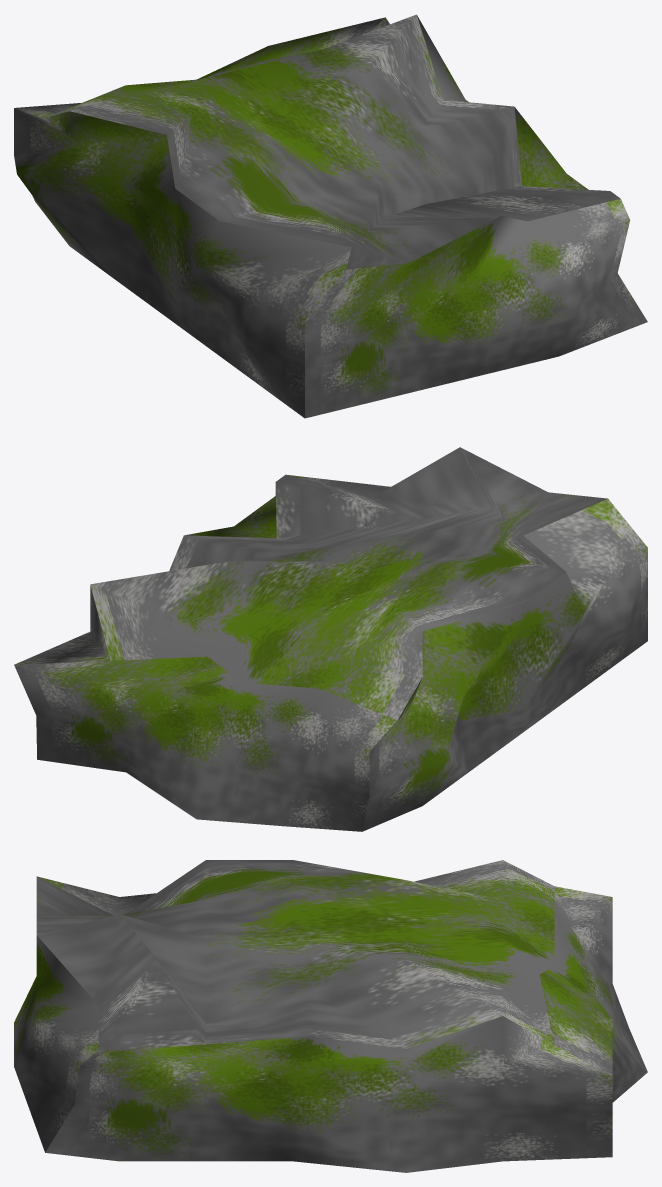
File: rock_02.FBX
3 views of the same model, one above another, from view 1: azimuth 30°, elevation 25°; view 2: azimuth 150°, elevation 25°; view 3: azimuth 270°, elevation 25° (orthographic). The views are drawn at different scales.
Parts seen in each view (by area): view 1: Box002; view 2: Box002; view 3: Box002.
Part boxes in pixels (x1,y1,x2,y2): Box002: (14, 14, 647, 418); Box002: (14, 447, 647, 831); Box002: (14, 860, 647, 1172).
Bounding box in the file's own units: 43.9 × 16.13 × 59.45.
